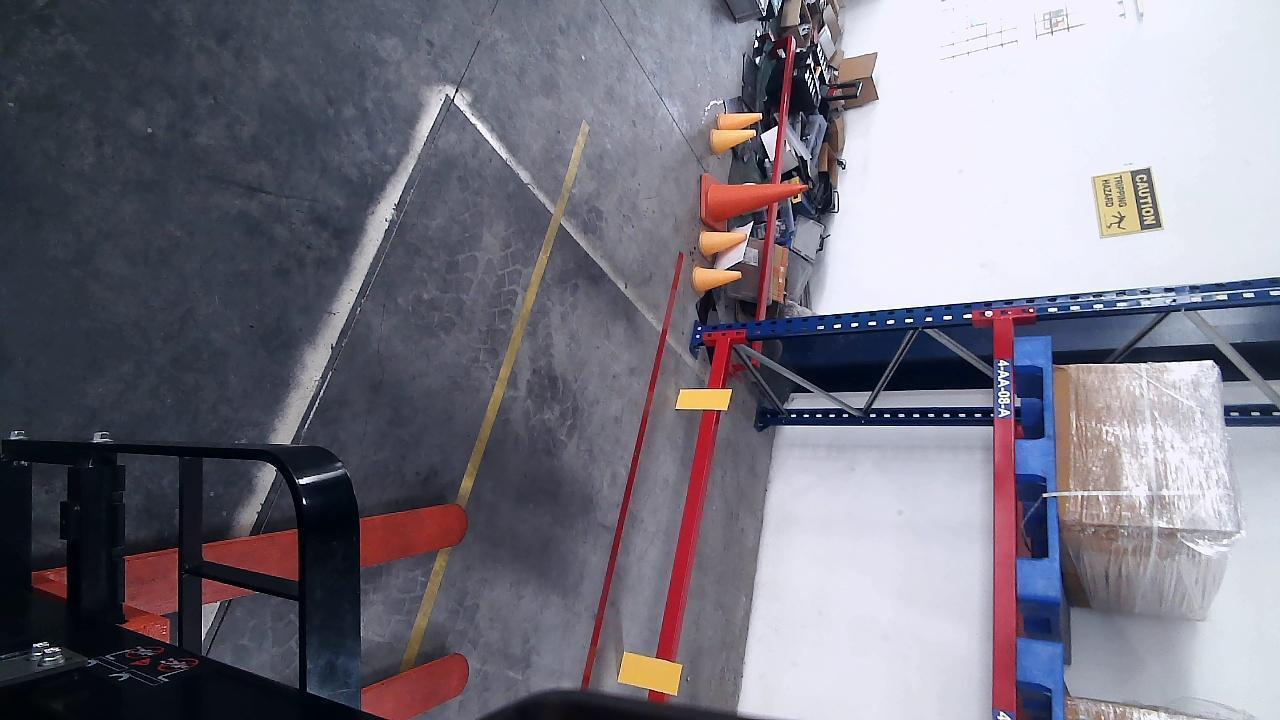red_line: (577, 252, 689, 693)
yellow_line: (396, 119, 594, 671)
